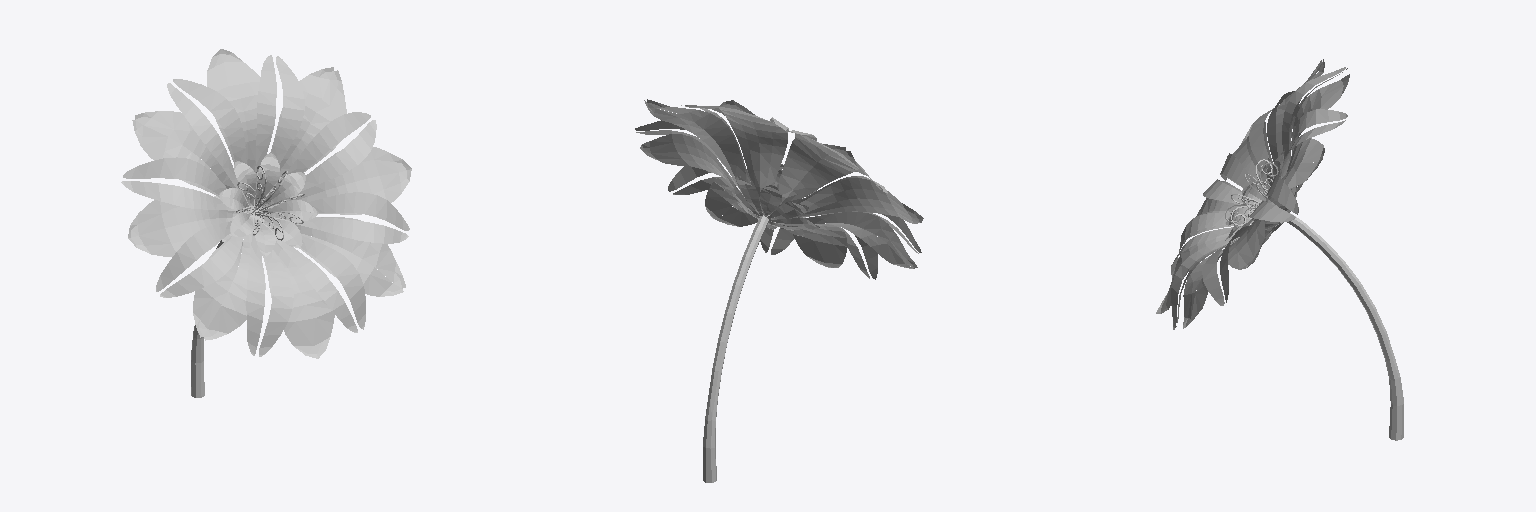
File: tree_small.obj
3 views of the same model, side by side, from view 1: azimuth 30°, elevation 25°; view 2: azimuth 150°, elevation 25°; view 3: azimuth 270°, elevation 25° (orthographic).
Visible parts, largest first — view 1: Tree_Flower_Small_Plane.003; view 2: Tree_Flower_Small_Plane.003; view 3: Tree_Flower_Small_Plane.003.
Part boxes in pixels (bbox=[...]): Tree_Flower_Small_Plane.003: bbox=[121, 49, 411, 397]; Tree_Flower_Small_Plane.003: bbox=[635, 99, 923, 482]; Tree_Flower_Small_Plane.003: bbox=[1156, 59, 1403, 440].
Size of the model in its own units: 5.64 by 6.9 by 4.28.